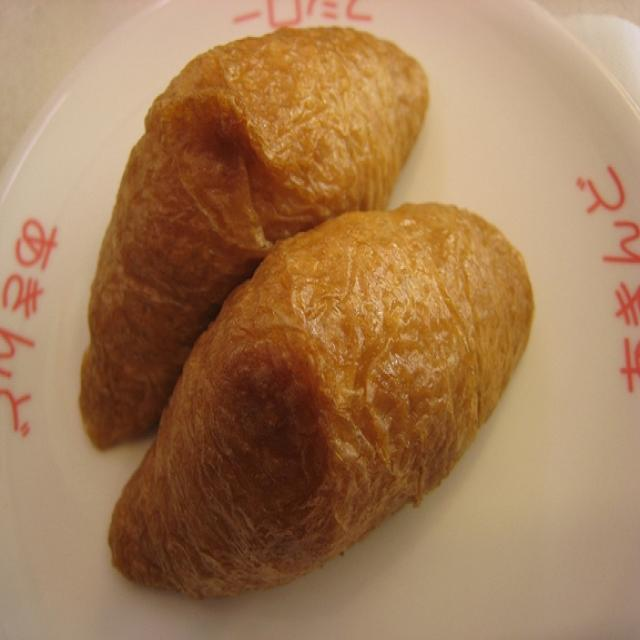寿司卷物: (16, 18, 611, 615)
